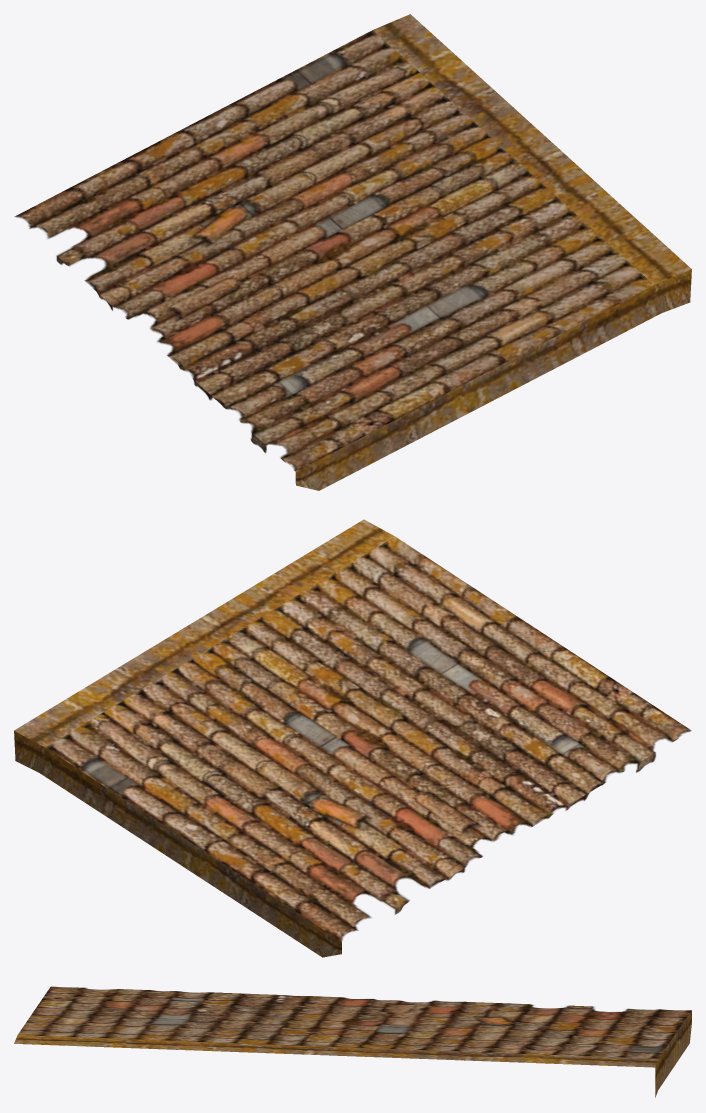
The model's file is hele_farmstead_roof.glb.
The picture shows the model from 3 angles, top to bottom: view 1: azimuth 30°, elevation 25°; view 2: azimuth 150°, elevation 25°; view 3: azimuth 270°, elevation 25°; orthographic projection. The views are drawn at different scales.
Parts seen in each view (by area): view 1: Farmstead_Broken_Roof; view 2: Farmstead_Broken_Roof; view 3: Farmstead_Broken_Roof.
Boxes of the visible parts, left/top/right/bottom form: Farmstead_Broken_Roof: left=14, top=14, right=691, bottom=490; Farmstead_Broken_Roof: left=14, top=519, right=691, bottom=957; Farmstead_Broken_Roof: left=14, top=986, right=691, bottom=1097.
Bounding box in the file's own units: 5.24 × 1.74 × 7.45.
1 material, 1 textured.
